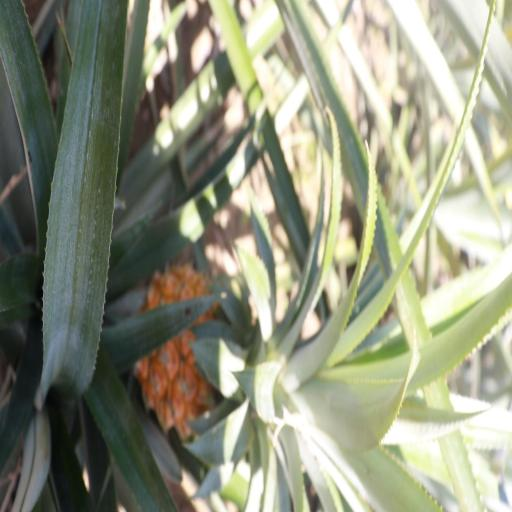Pineapple - v8 v1: (142, 265, 416, 441)
